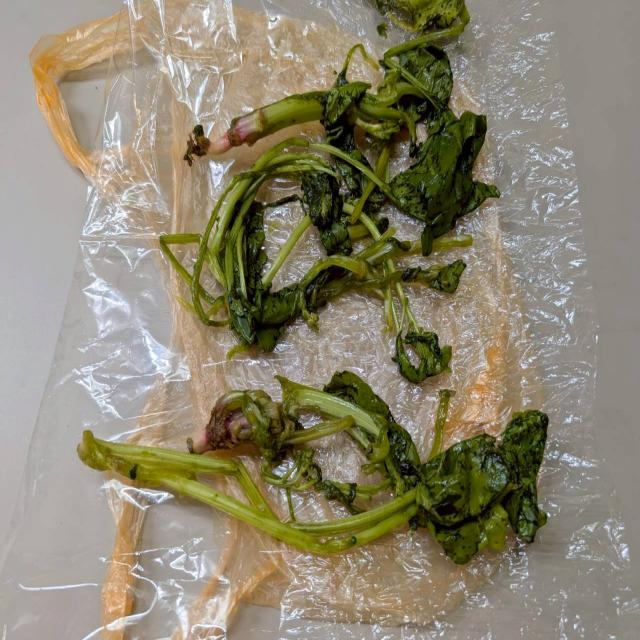rotten spinach: (72, 0, 590, 614), (101, 396, 578, 585), (194, 161, 492, 417), (162, 44, 509, 229)
